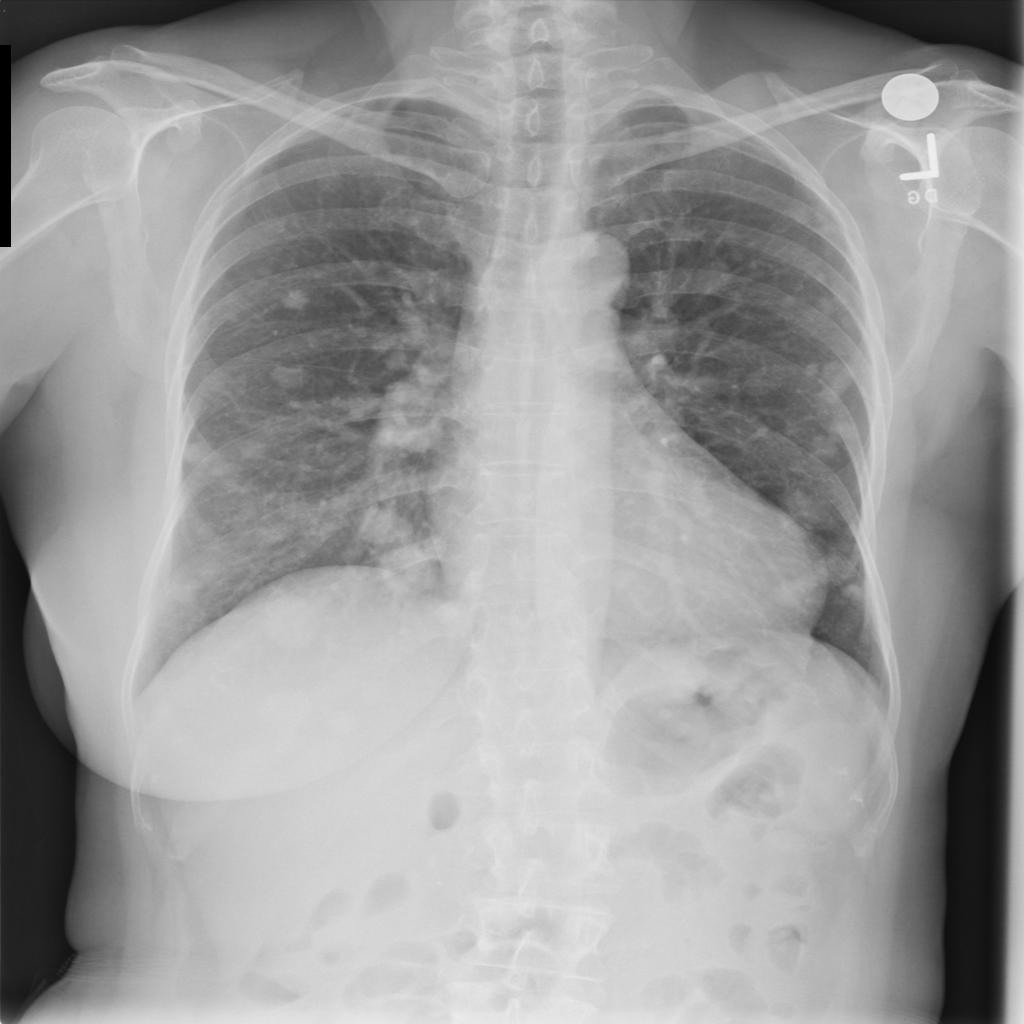nodule: (251, 588, 333, 654), (377, 385, 453, 456), (372, 537, 446, 607), (763, 475, 838, 541), (346, 492, 423, 555), (682, 252, 740, 300), (260, 353, 325, 395), (737, 355, 792, 404), (827, 565, 881, 613), (245, 503, 299, 550), (810, 354, 865, 400), (302, 157, 358, 202), (228, 426, 282, 472), (270, 278, 326, 322), (159, 566, 213, 610), (801, 425, 856, 468), (173, 432, 226, 476), (813, 292, 852, 328)
